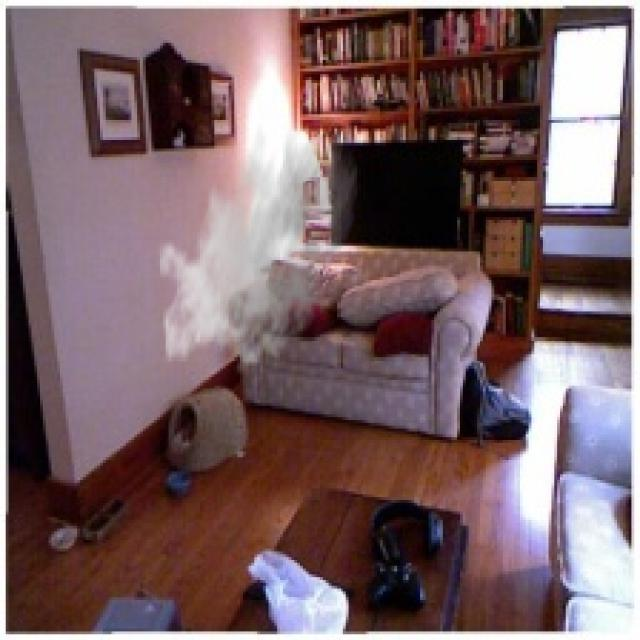smoke: (157, 112, 360, 377)
